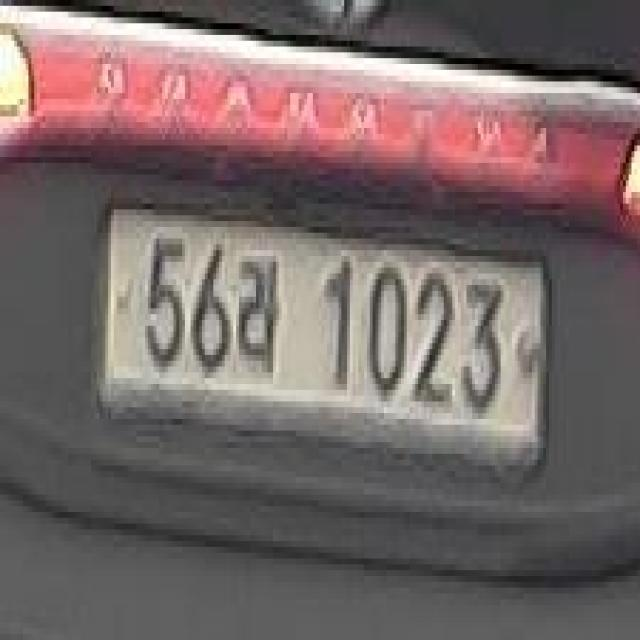illegal_plate: (96, 192, 552, 494)
